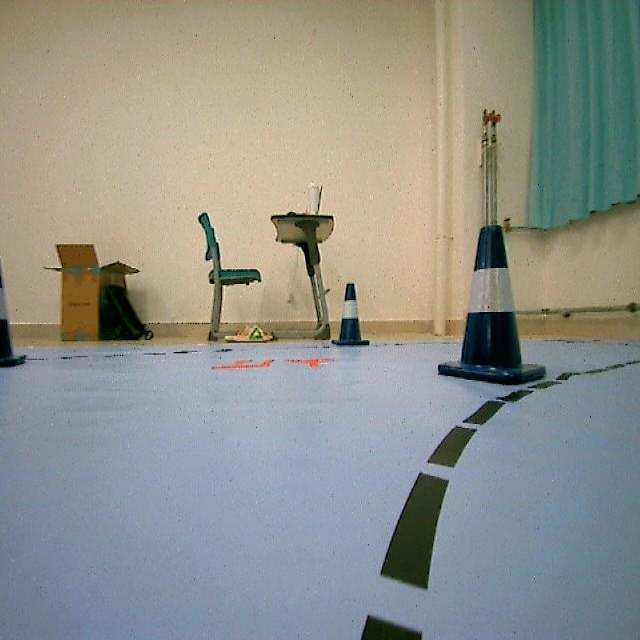obstacle: (429, 223, 546, 384), (334, 282, 372, 349)
